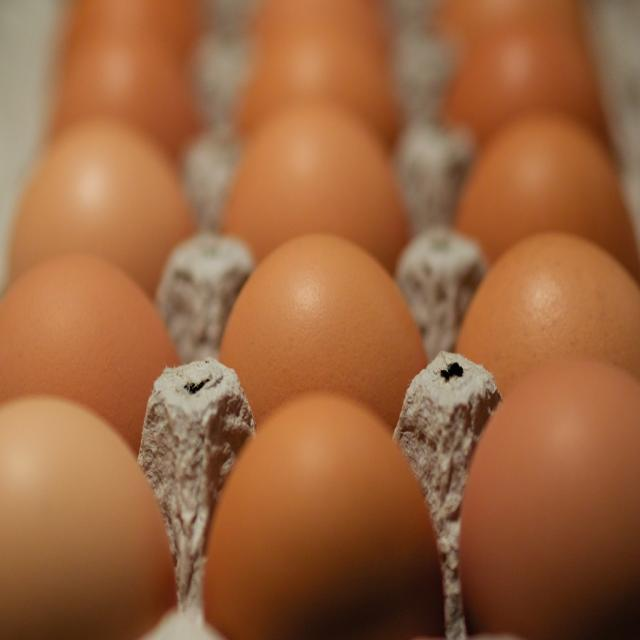Egg: (0, 0, 639, 639), (218, 228, 423, 430)
